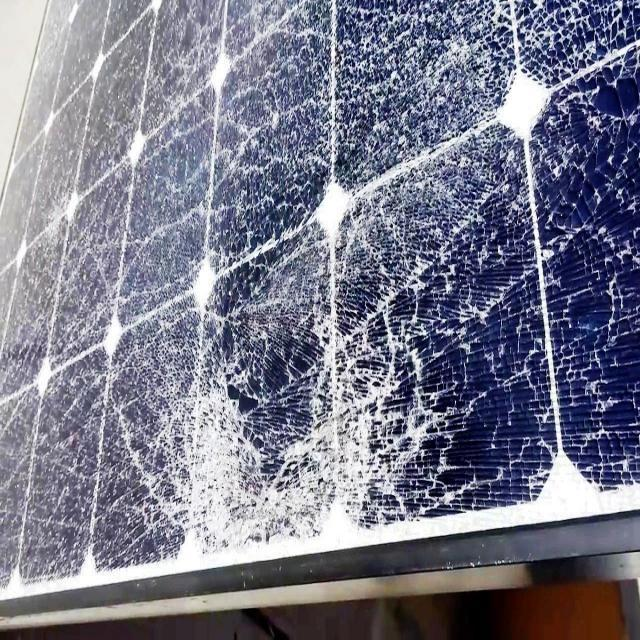faulty: (1, 3, 640, 577)
